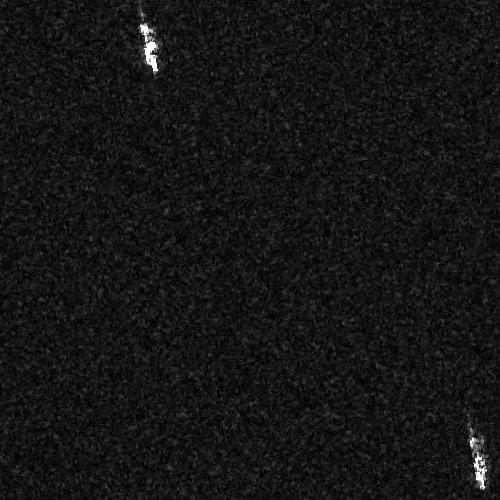ship: (469, 425, 489, 492), (138, 20, 160, 74)
